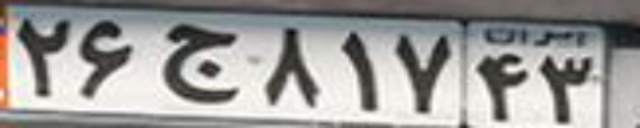1: (336, 28, 385, 110)
2: (13, 18, 72, 99)
3: (535, 50, 591, 123)
4: (475, 50, 533, 121)
6: (76, 18, 125, 98)
7: (391, 28, 453, 117)
8: (262, 23, 321, 106)
jim: (163, 21, 238, 103)
